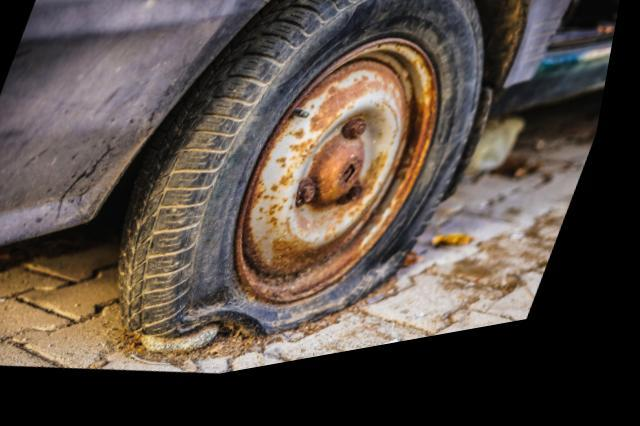tire flat: (129, 0, 488, 349)
